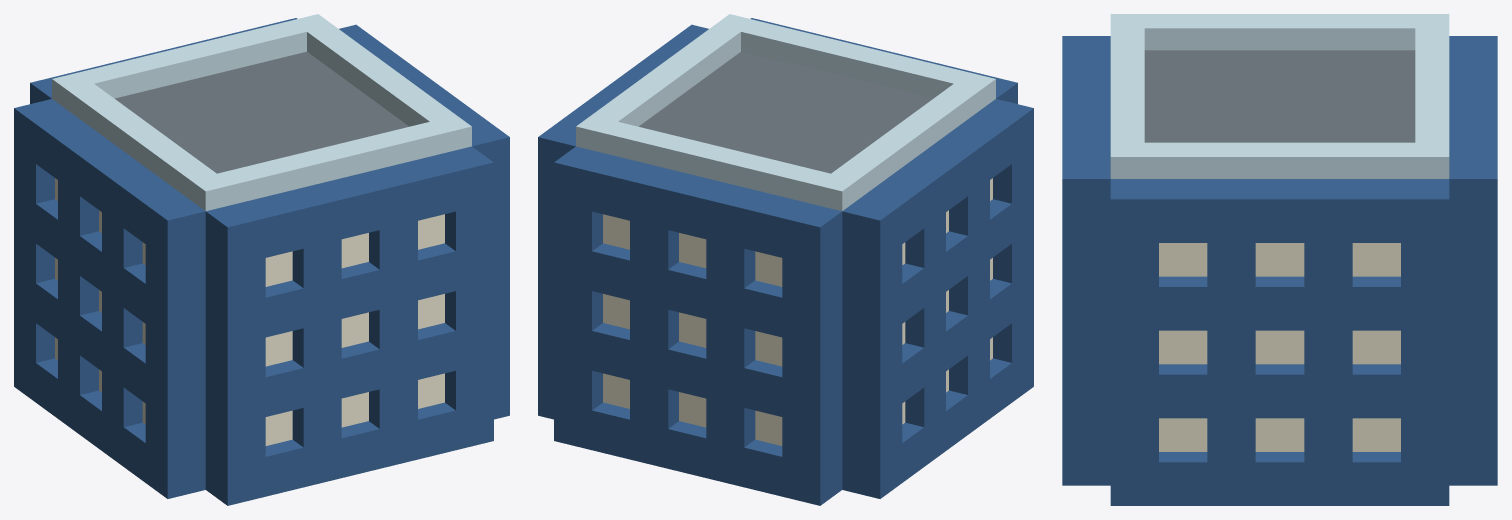
Rendered from Building_1 (Blue).obj.
3 renders of one model, left to right at view 1: azimuth 30°, elevation 25°; view 2: azimuth 150°, elevation 25°; view 3: azimuth 270°, elevation 25°, orthographic. The views are drawn at different scales.
Parts seen in each view (by area): view 1: Building_1_(Blue); view 2: Building_1_(Blue); view 3: Building_1_(Blue).
Boxes of the visible parts, left/top/right/bottom form: Building_1_(Blue): left=14, top=14, right=509, bottom=505; Building_1_(Blue): left=538, top=14, right=1033, bottom=505; Building_1_(Blue): left=1062, top=14, right=1497, bottom=505.
Bounding box in the file's own units: 1.8 × 1.5 × 1.8.
